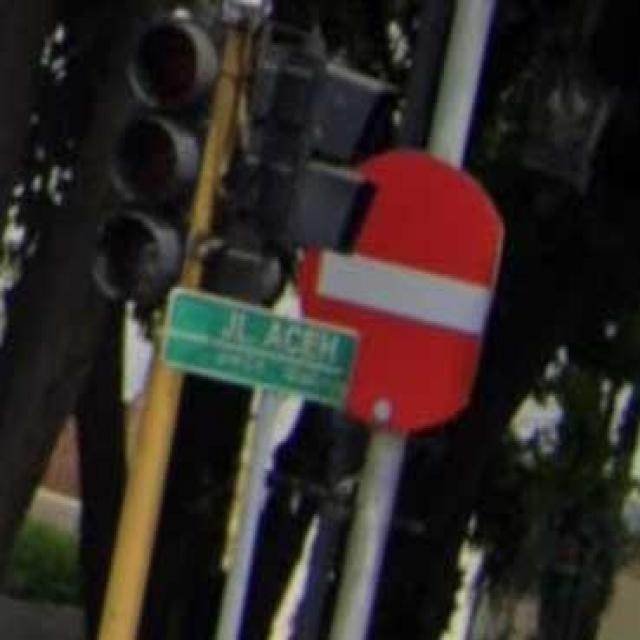traffic sign: (302, 146, 500, 433)
